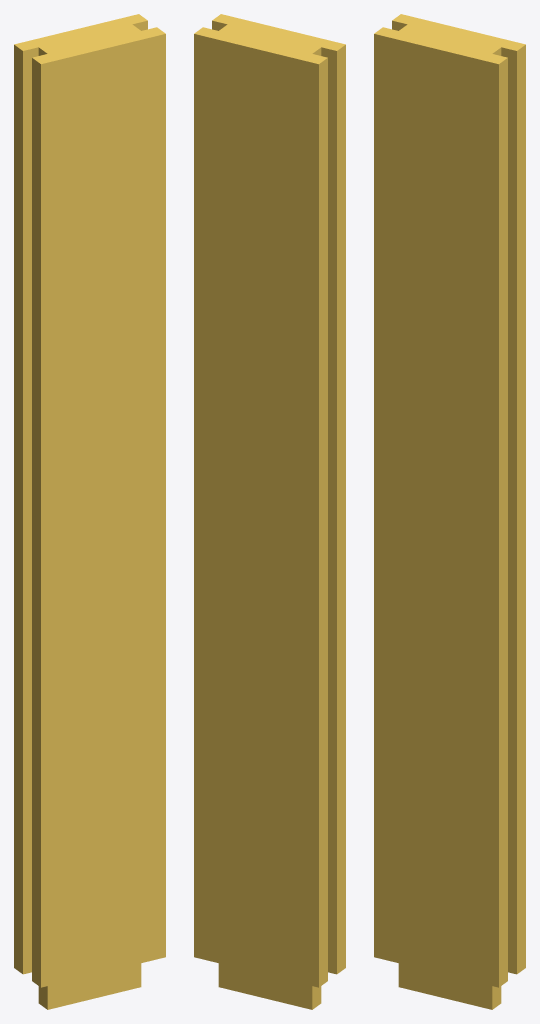
File: original-16.obj
3 views of the same model, side by side, from view 1: azimuth 30°, elevation 25°; view 2: azimuth 150°, elevation 25°; view 3: azimuth 330°, elevation 25° (orthographic).
Parts seen in each view (by area): view 1: mid_brace2/mid_brace/mesh24/mesh24-geometry#mesh24-geometry; view 2: mid_brace2/mid_brace/mesh24/mesh24-geometry#mesh24-geometry; view 3: mid_brace2/mid_brace/mesh24/mesh24-geometry#mesh24-geometry.
Boxes of the visible parts, <box> form: mid_brace2/mid_brace/mesh24/mesh24-geometry#mesh24-geometry: <box>14,14,165,1009</box>; mid_brace2/mid_brace/mesh24/mesh24-geometry#mesh24-geometry: <box>194,14,345,1009</box>; mid_brace2/mid_brace/mesh24/mesh24-geometry#mesh24-geometry: <box>374,14,525,1009</box>.
Bounding box in the file's own units: 0.0874 × 0.6391 × 0.0328.
